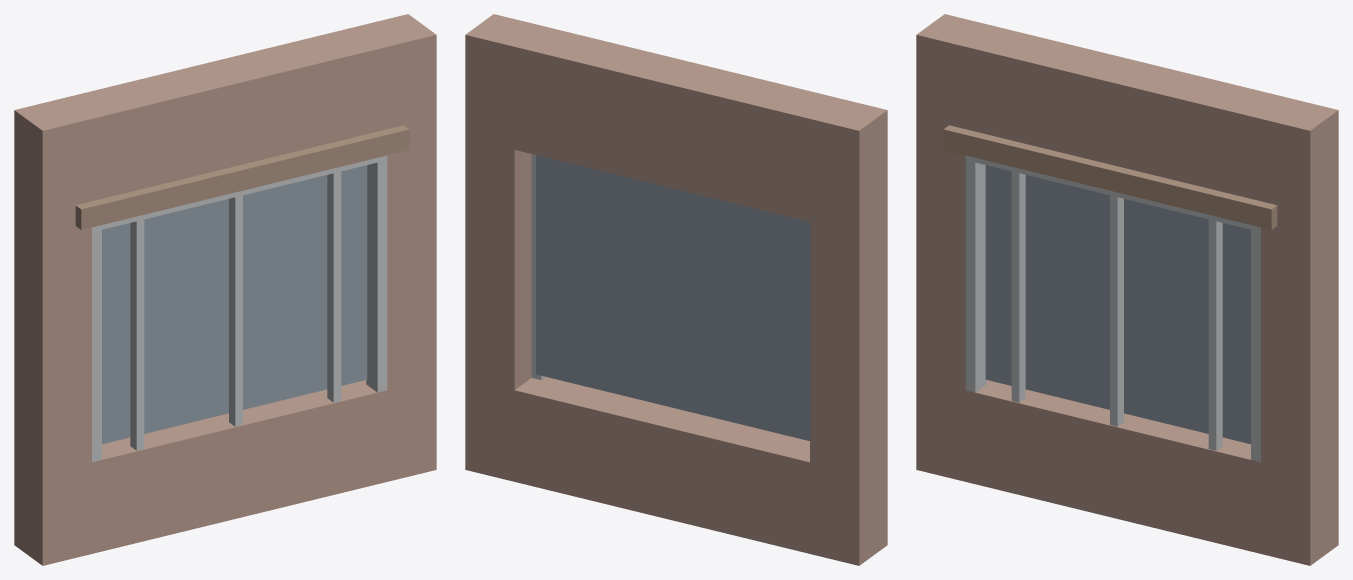
File: bay_warehouse.glb
3 views of the same model, side by side, from view 1: azimuth 30°, elevation 25°; view 2: azimuth 150°, elevation 25°; view 3: azimuth 330°, elevation 25° (orthographic).
Visible parts, largest first — view 1: facade_bay_warehouse; view 2: facade_bay_warehouse; view 3: facade_bay_warehouse.
Part boxes in pixels (x1,y1,x2,y2): facade_bay_warehouse: [14, 14, 436, 565]; facade_bay_warehouse: [465, 14, 887, 565]; facade_bay_warehouse: [916, 14, 1338, 565].
Bounding box in the file's own units: 3.6 × 3.8 × 0.54.
